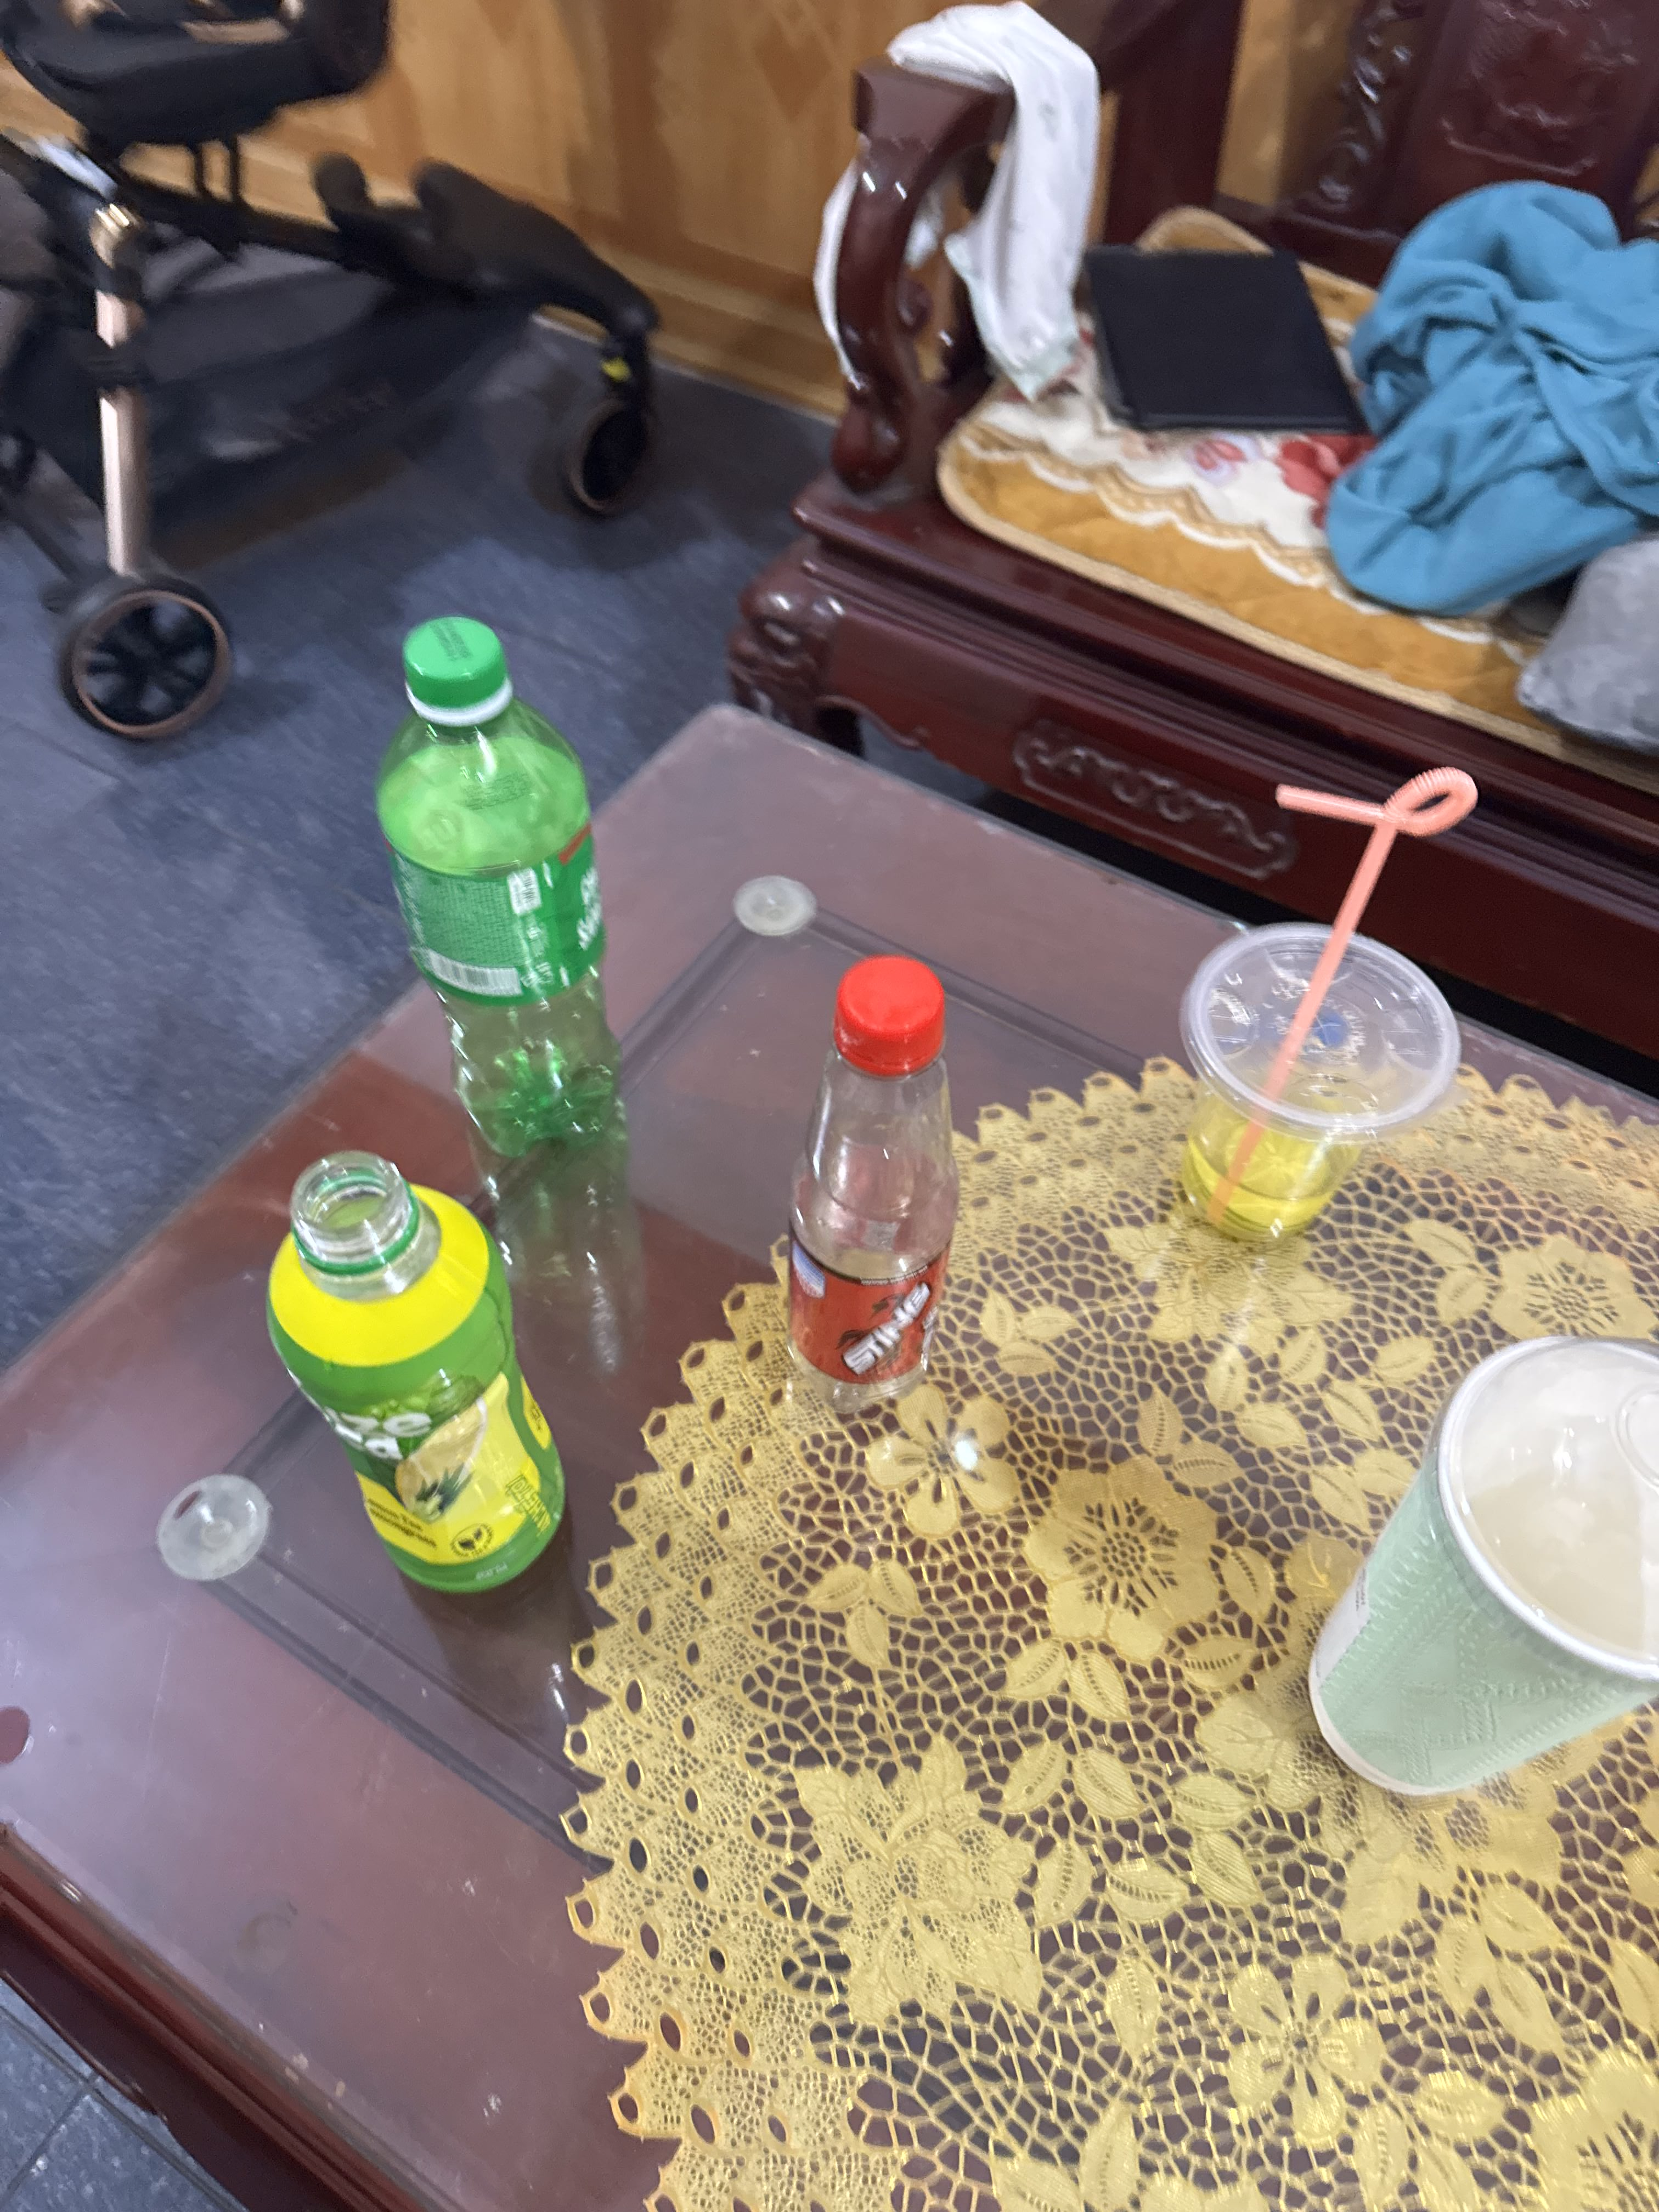2: (1249, 1285, 1659, 1871), (1129, 887, 1490, 1338)
bottle: (211, 1130, 633, 1637), (349, 592, 690, 1179), (725, 911, 1009, 1486)
